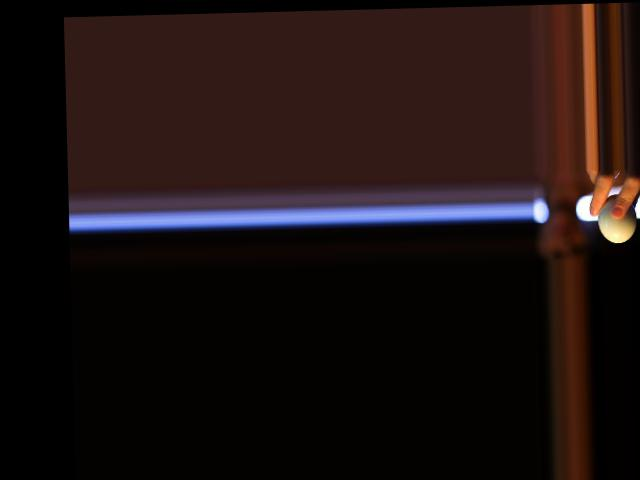egg: (596, 193, 636, 243)
